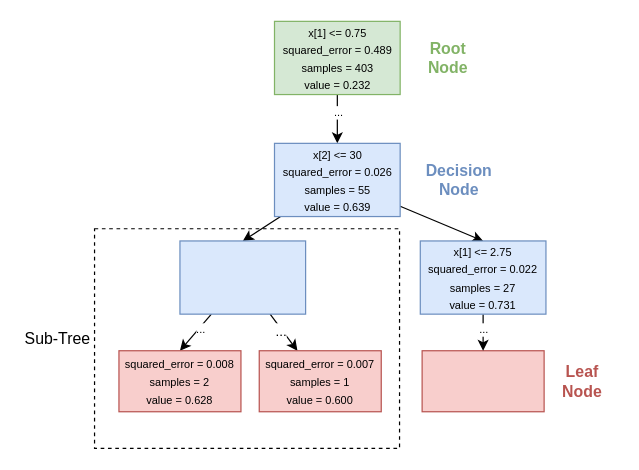
Image size: 639x470. Some labels were removed from this diagram. The shapes that lost their labels are listed below. From the top down, each one's centre as x and y in pixels, then its label:
At pixel 242 277: "x[0] <= 8.75 squared_error = 0.015 samples = 28 value = 0.553".
At pixel 482 381: "squared_error = 0.001 samples = 2 value = 0.781".
